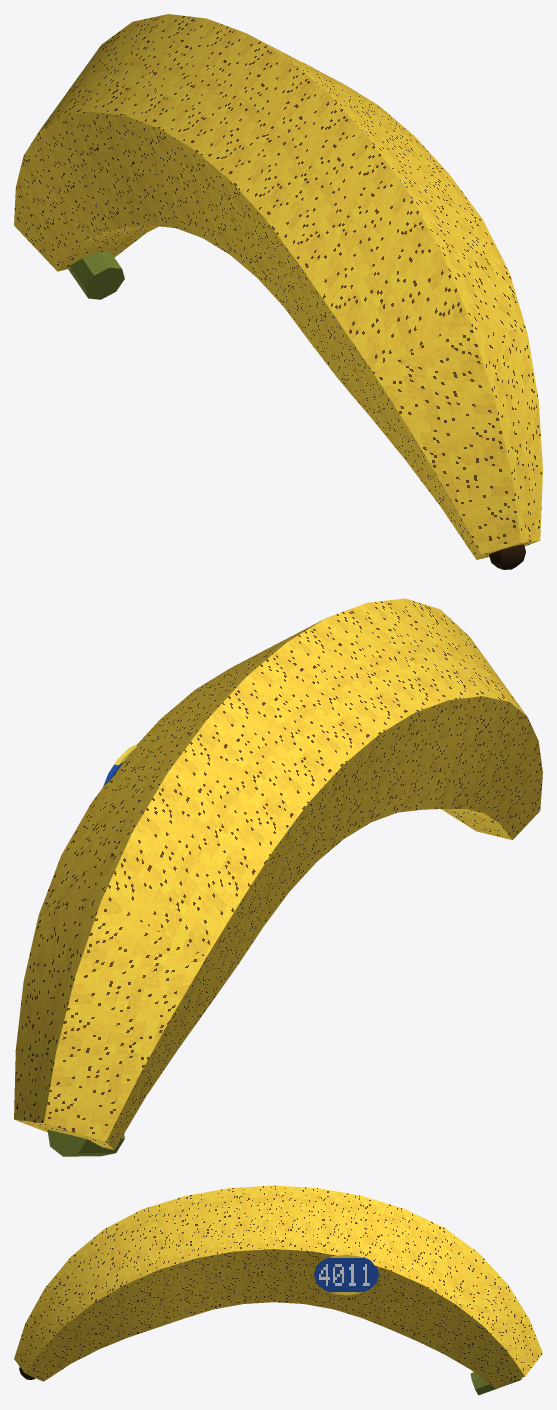
Rendered from pj_banana.glb.
The picture shows the model from 3 angles, top to bottom: view 1: azimuth 30°, elevation 25°; view 2: azimuth 150°, elevation 25°; view 3: azimuth 270°, elevation 25°; orthographic projection. The views are drawn at different scales.
Parts seen in each view (by area): view 1: pbanana_wzB; view 2: pbanana_wzB; view 3: pbanana_wzB, pbanana_wzN.
Boxes of the visible parts, x1=… form: pbanana_wzB: x1=14, y1=14, x2=542, y2=569; pbanana_wzB: x1=14, y1=598, x2=542, y2=1156; pbanana_wzB: x1=14, y1=1185, x2=542, y2=1395; pbanana_wzN: x1=314, y1=1253, x2=379, y2=1295.
Size of the model in its own units: 0.0838 by 0.1644 by 0.3763.
Materials: 4 (2 with a texture image).
